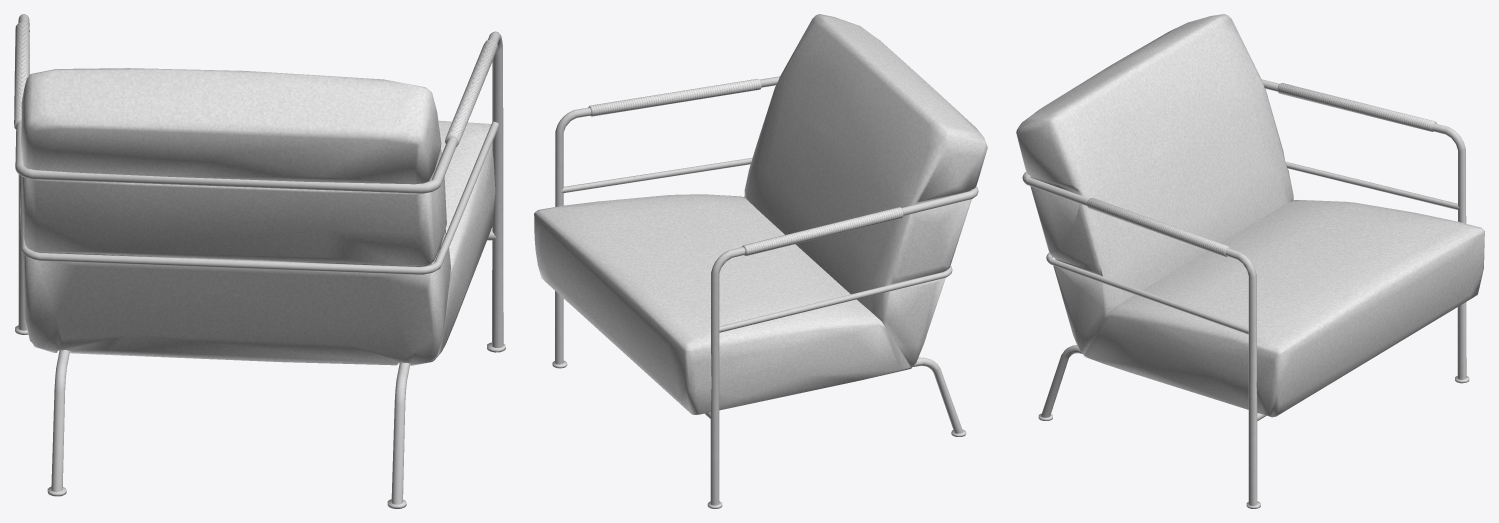
The model's file is Aur_Chair.gltf.
3 views of the same model, side by side, from view 1: azimuth 30°, elevation 25°; view 2: azimuth 150°, elevation 25°; view 3: azimuth 270°, elevation 25° (orthographic). The views are drawn at different scales.
Parts seen in each view (by area): view 1: Aur_Chair.001; view 2: Aur_Chair.001; view 3: Aur_Chair.001.
Boxes of the visible parts, left/top/right/bottom form: Aur_Chair.001: left=14, top=14, right=505, bottom=508; Aur_Chair.001: left=534, top=14, right=987, bottom=508; Aur_Chair.001: left=1016, top=14, right=1484, bottom=508.
Size of what is drawn, in the model's own units: 1.53 by 1.15 by 1.54.
Materials: 2 (2 with a texture image).
